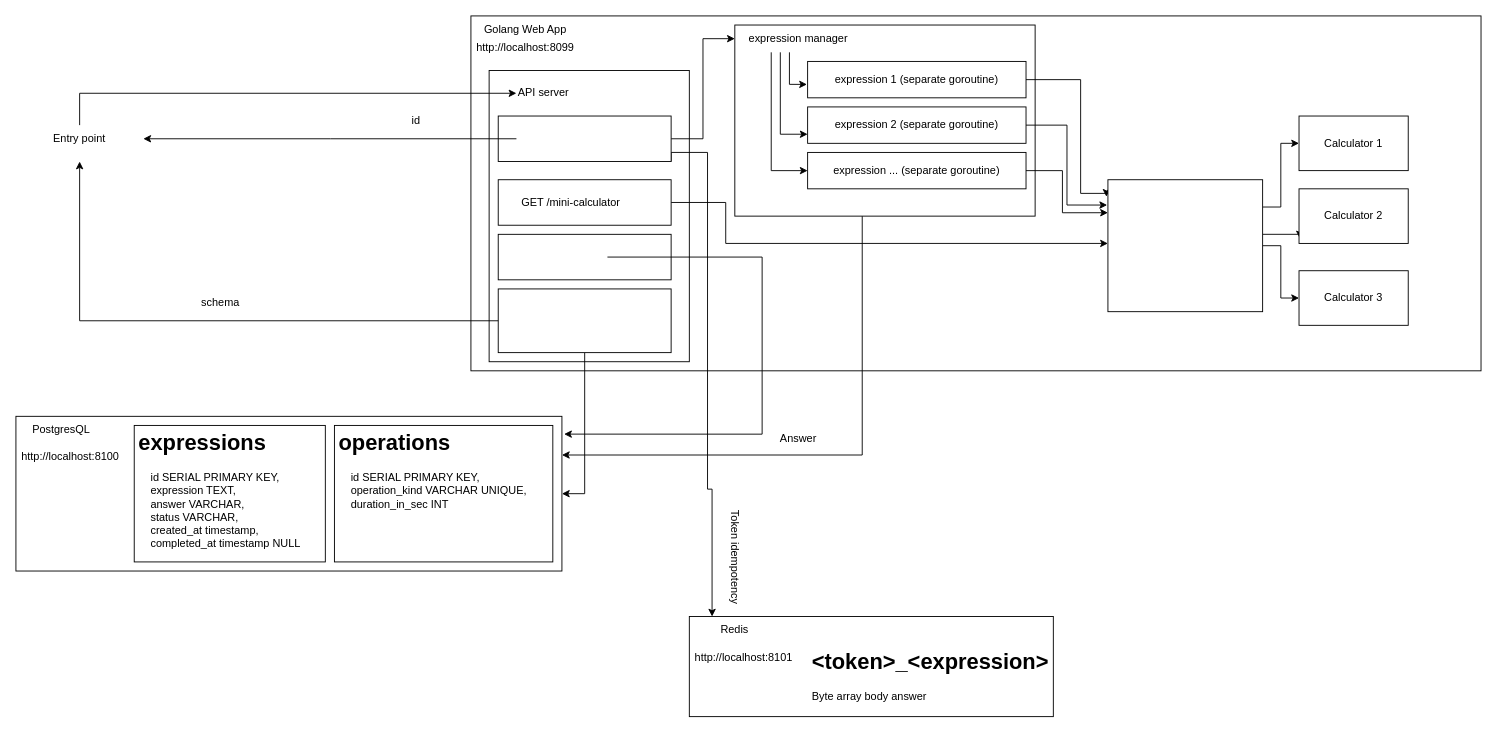
The diagram is 1497 pixels wide and 733 high, and some of its shapes have lost their labels. The centre of each missing label's shape, as x and y in pixels:
"Agent" belongs at [1185,245].
"GET /expression and other GET handlers" belongs at [584,320].
"POST /expression" belongs at [584,138].
"PUT /operation" belongs at [584,256].
